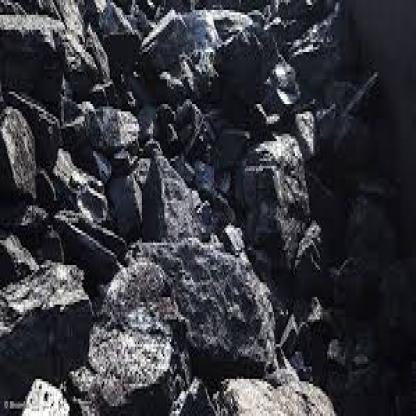Sedimentary_coal: (88, 240, 277, 404), (238, 124, 309, 294), (3, 255, 90, 359), (144, 143, 212, 252), (96, 96, 135, 154)
